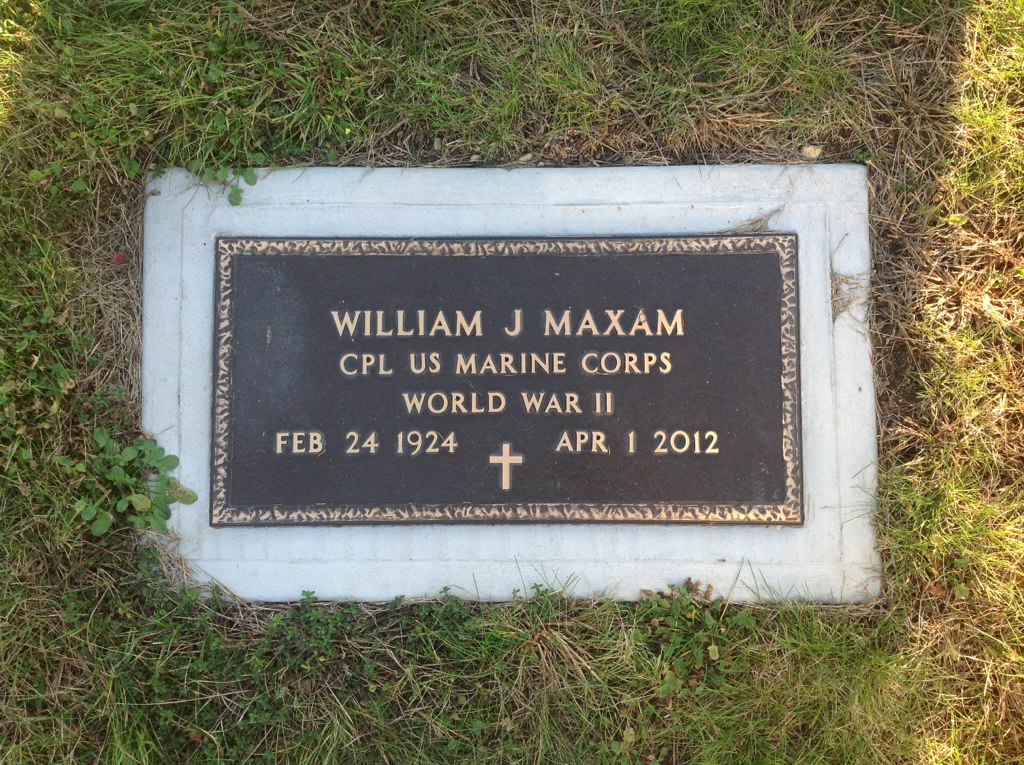flat: (206, 222, 801, 528)
